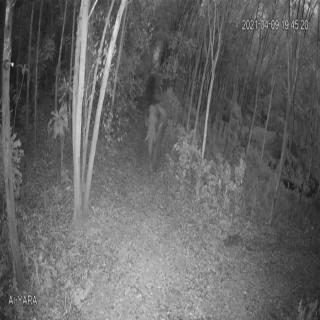Elephant: (142, 99, 170, 172)
